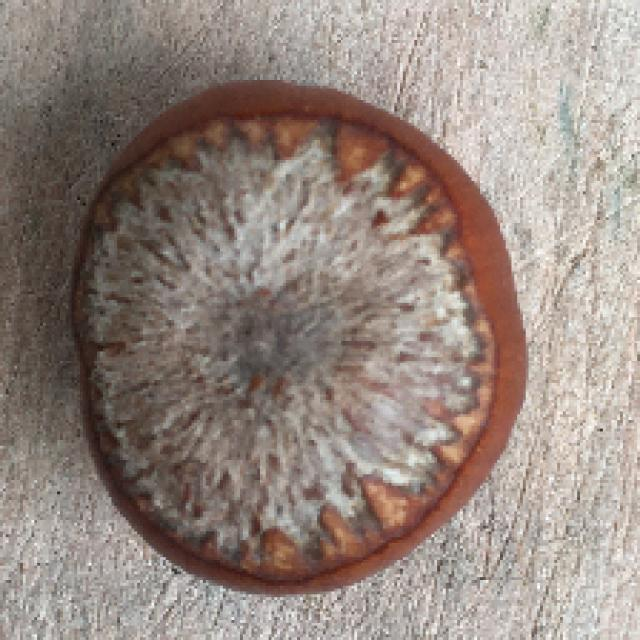qualityHazelnut: (64, 78, 528, 598)
